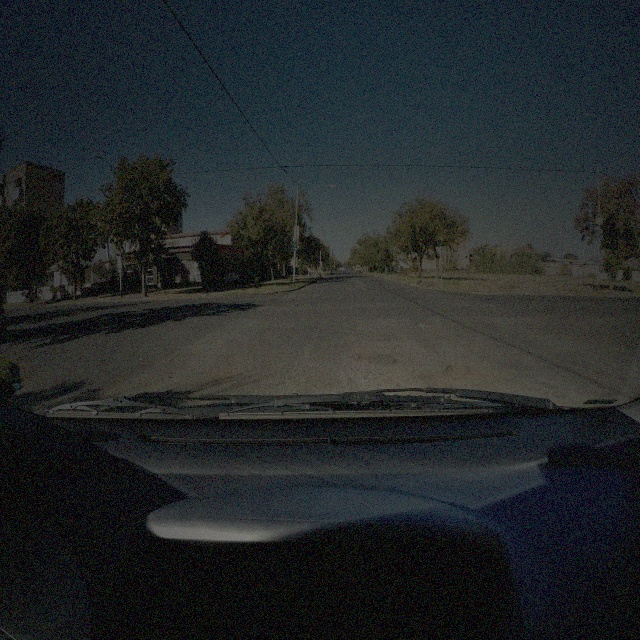pothole: (443, 362, 472, 382), (415, 322, 435, 328), (353, 352, 362, 363)
